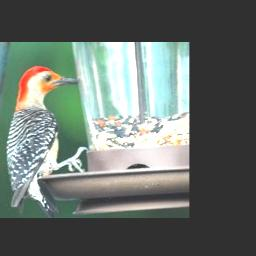Woodpecker: (4, 65, 88, 216)
